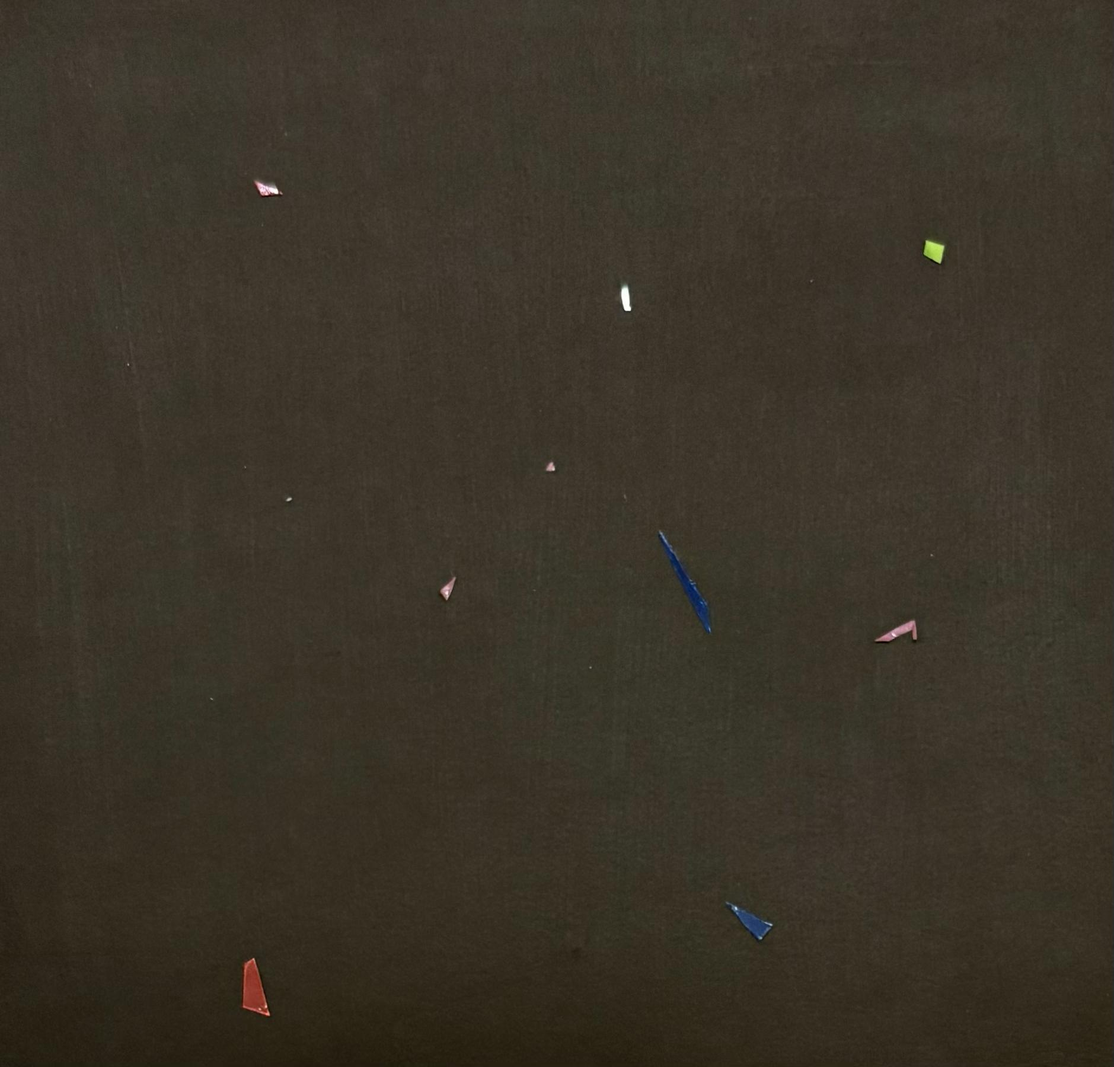Microplastic Particle: (653, 515, 723, 655), (724, 901, 773, 942), (242, 957, 270, 1017), (874, 618, 918, 643), (253, 178, 283, 198), (923, 240, 944, 263), (440, 576, 455, 601), (620, 284, 631, 312), (545, 461, 555, 472), (242, 466, 247, 471), (287, 497, 292, 502)
